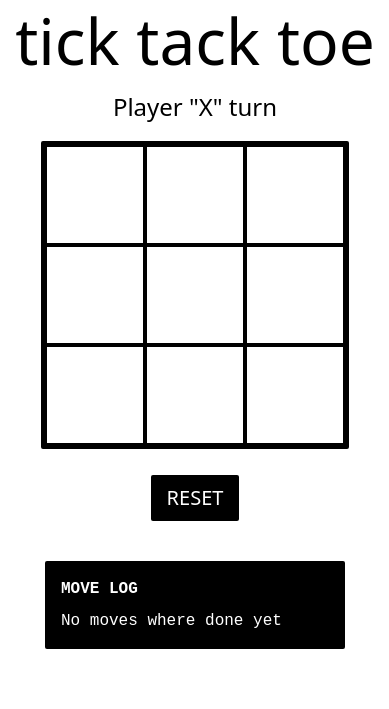
it: tick tack toe app › shows correct turns and result for scenario when player O winds
Expected: the heading "Player \"X\" turn" is shown, [113, 90, 277, 123]
Click the element with test id "cell" at (95, 195), box [45, 145, 145, 245]
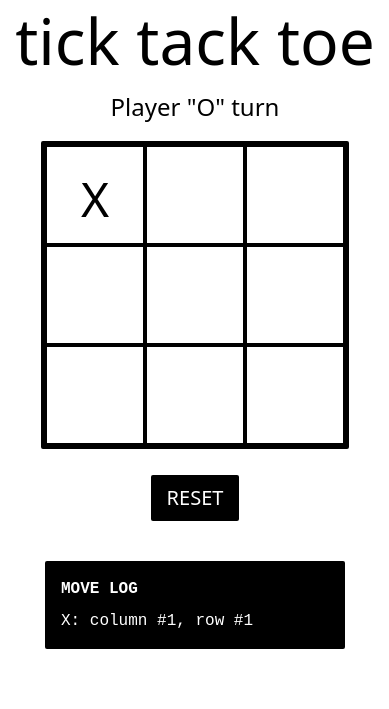
Expected: the heading "Player \"O\" turn" is shown, [110, 90, 279, 123]
Click the element with test id "cell" at (195, 195), box [145, 145, 245, 245]
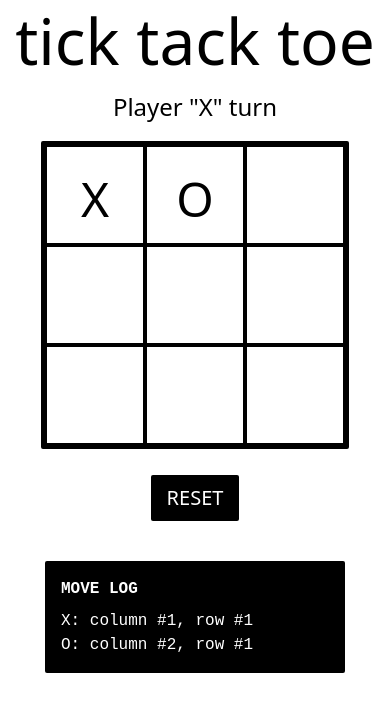
Expected: the heading "Player \"X\" turn" is shown, [113, 90, 277, 123]
Click the element with test id "cell" at (295, 195), box [245, 145, 345, 245]
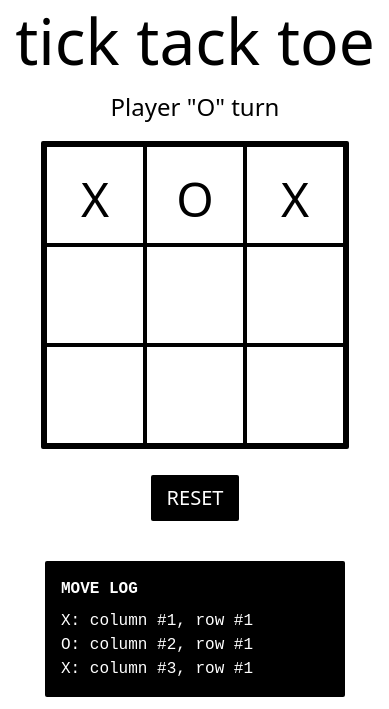
Expected: the heading "Player \"O\" turn" is shown, [110, 90, 279, 123]
Click the element with test id "cell" at (195, 295), box [145, 245, 245, 345]
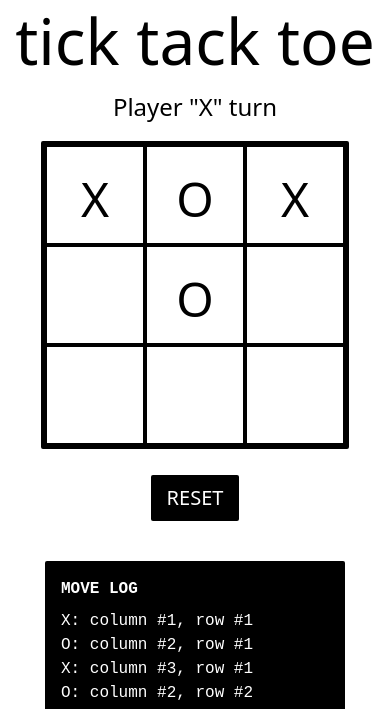
Expected: the heading "Player \"X\" turn" is shown, [113, 90, 277, 123]
Click the element with test id "cell" at (295, 295), box [245, 245, 345, 345]
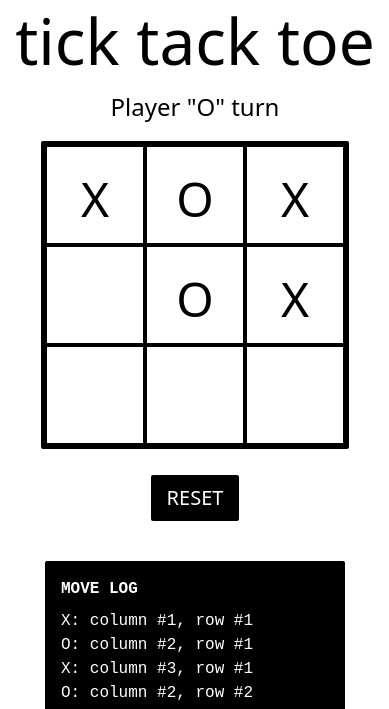
Expected: the heading "Player \"O\" turn" is shown, [110, 90, 279, 123]
Click the element with test id "cell" at (195, 395), box [145, 345, 245, 445]
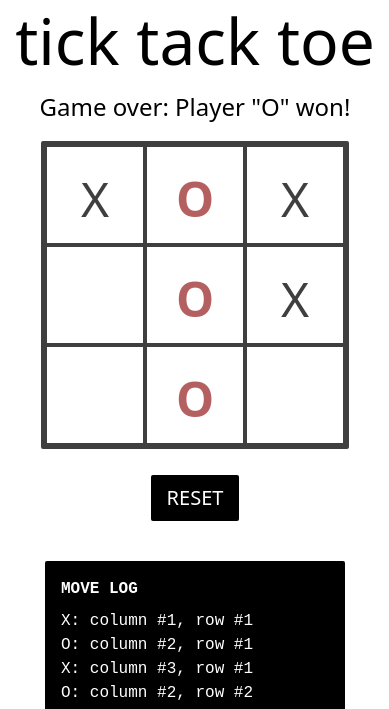
Expected: the heading "Game over: Player \"O\" won!" is shown, [40, 90, 350, 123]
